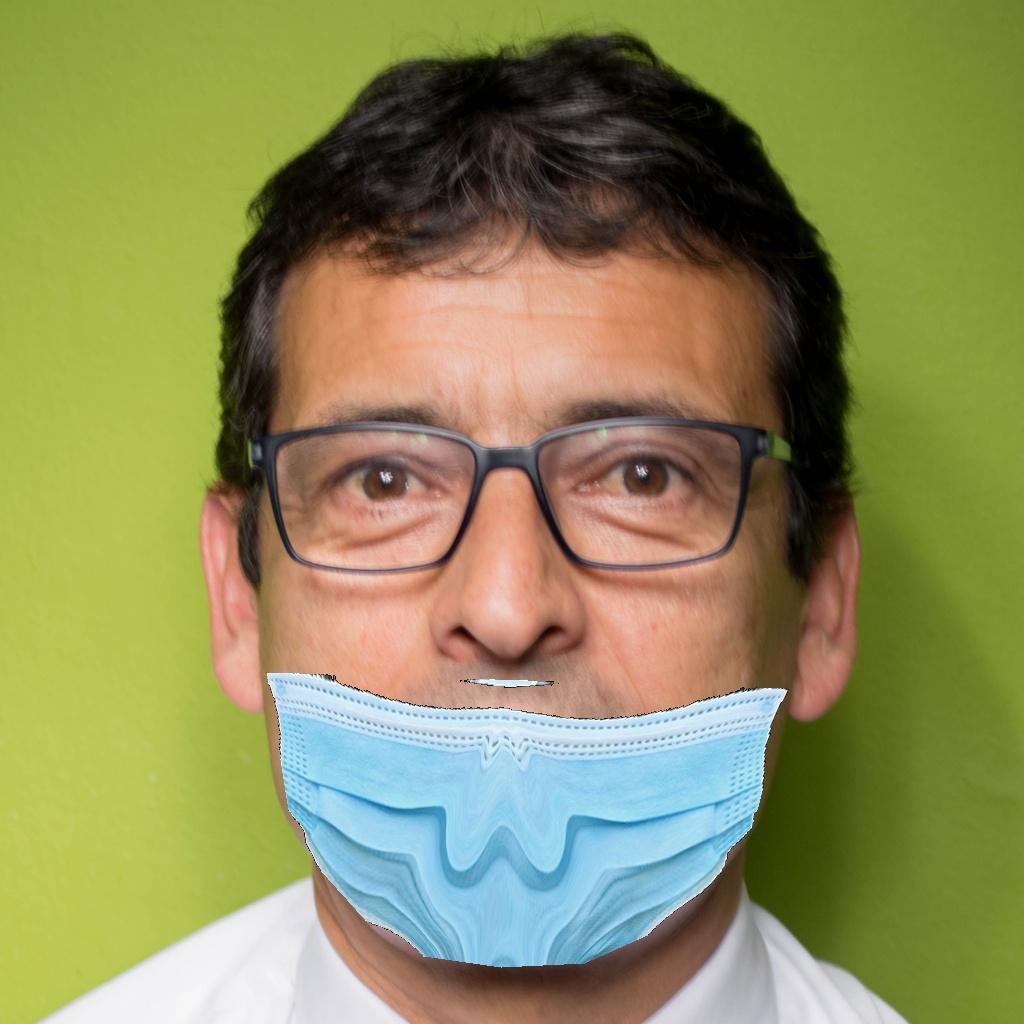Máscara Incorreta: (259, 288, 787, 961)
